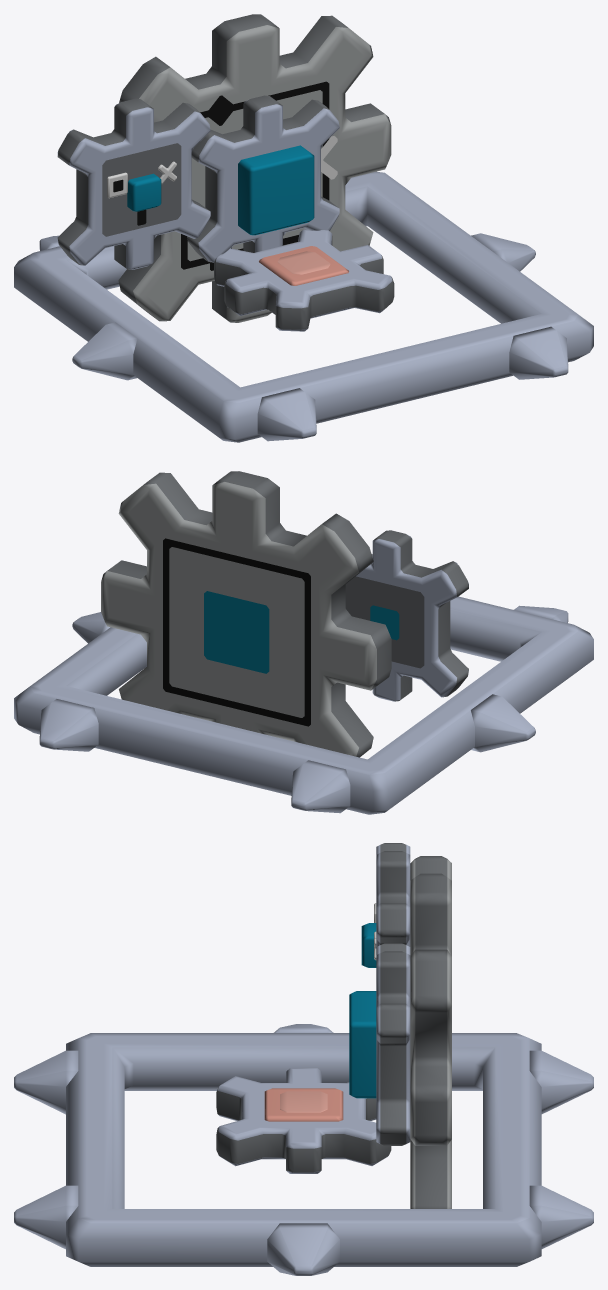
The picture shows the model from 3 angles, top to bottom: view 1: azimuth 30°, elevation 25°; view 2: azimuth 150°, elevation 25°; view 3: azimuth 270°, elevation 25°; orthographic projection. The views are drawn at different scales.
Parts seen in each view (by area): view 1: model; view 2: model; view 3: model.
Boxes of the visible parts, <box> form: model: <box>14,14,593,442</box>; model: <box>14,471,593,814</box>; model: <box>14,843,593,1275</box>.
Size of the model in its own units: 4.44 by 2.7 by 4.44.
